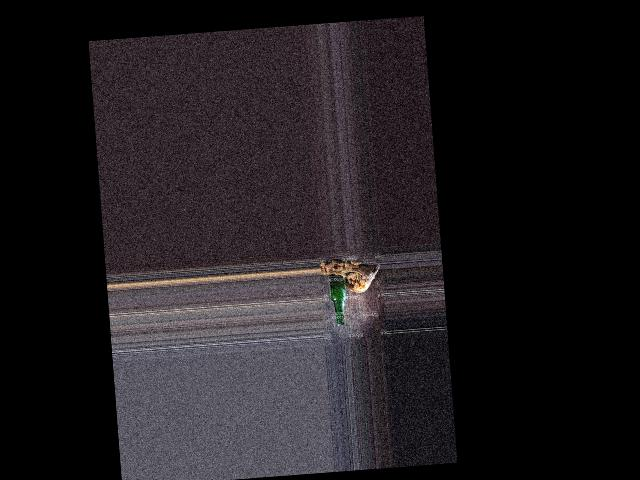beer: (328, 269, 348, 326)
